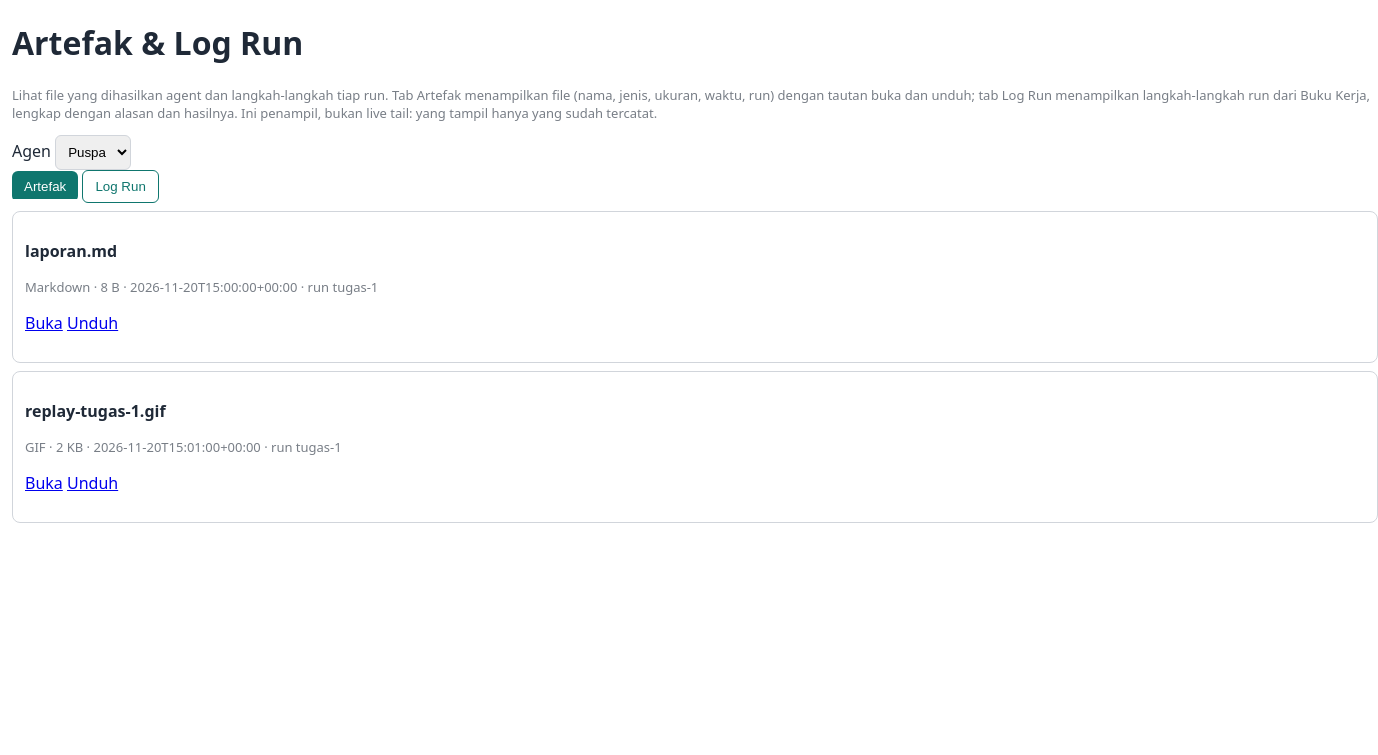
ArtifactsScreen › switches to the run-log tab and shows each step with reason and result
This screenshot has width=1378, height=755.
Expected: the text "laporan.md" is shown, [25, 240, 117, 262]
Click the tab "Log Run".
click(121, 186)  # box [82, 170, 159, 203]
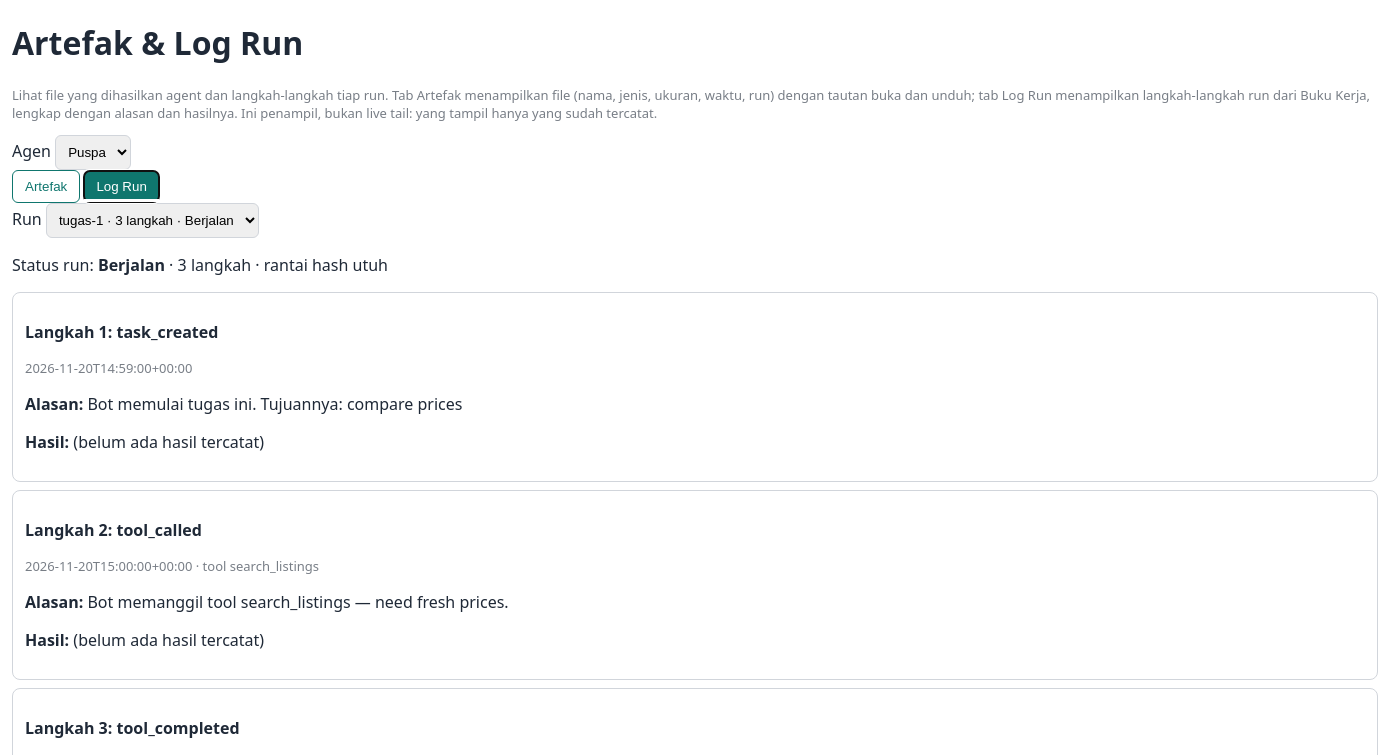
Now the text "Langkah 1: task_created" is shown, box [25, 321, 218, 343]
Now the text "Alasan: Bot memulai tugas ini. Tujuannya: compare prices" is shown, box [25, 393, 462, 415]
Now the text "Langkah 2: tool_called" is shown, box [25, 519, 202, 541]
